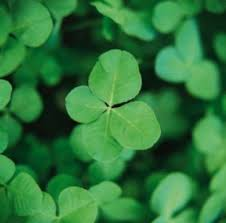4-clover: (65, 49, 162, 160)
